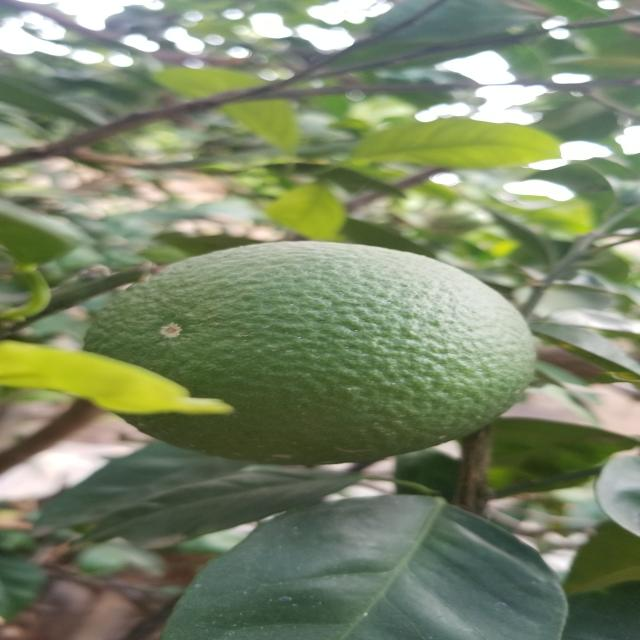Unripe: (69, 234, 545, 476)
